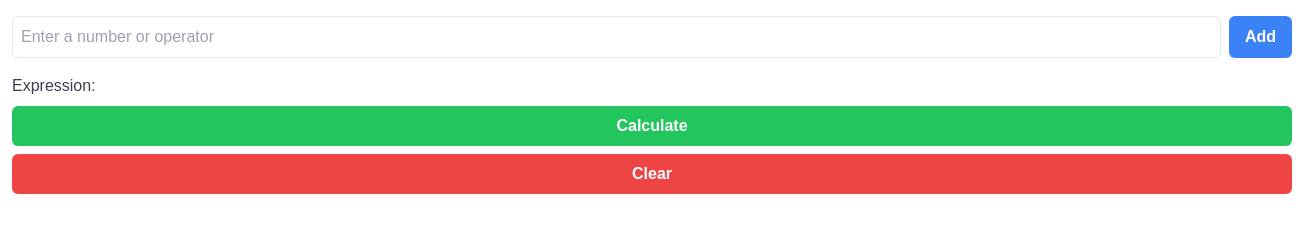
Test: Calculator Component › displays error on invalid expression
Type "2" into the field with placeholder "Enter a number or operator" at [616, 37], box top-left (12, 16), bottom-right (1221, 58)
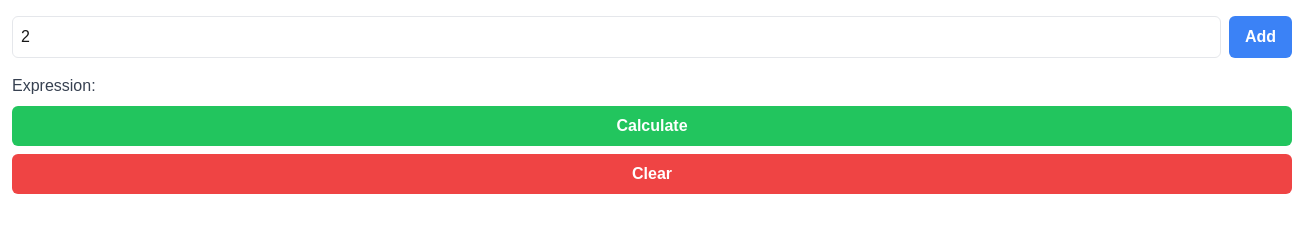
Click the button "Add" at [1260, 37], box top-left (1229, 16), bottom-right (1292, 58)
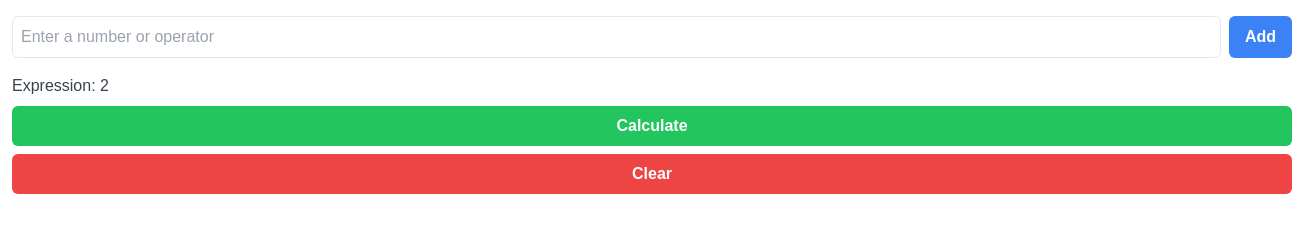
Type "+" into the field with placeholder "Enter a number or operator" at [616, 37], box top-left (12, 16), bottom-right (1221, 58)
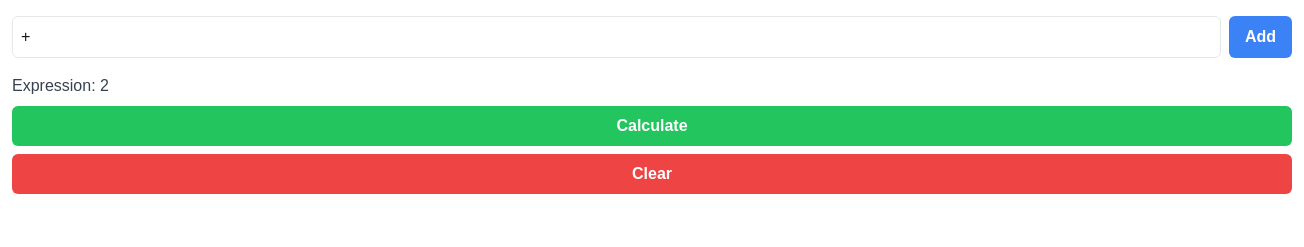
Click the button "Add" at [1260, 37], box top-left (1229, 16), bottom-right (1292, 58)
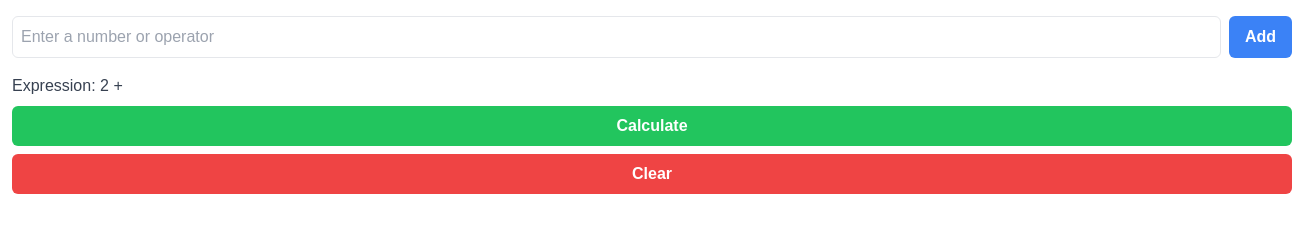
Click the button "Calculate" at [652, 126], box top-left (12, 106), bottom-right (1292, 146)
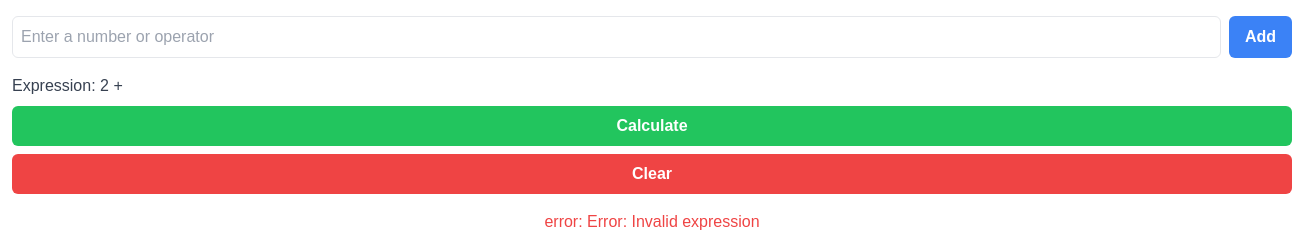
Result: the text "error: Error: Invalid expression" is shown at top-left (544, 213), bottom-right (760, 230)
